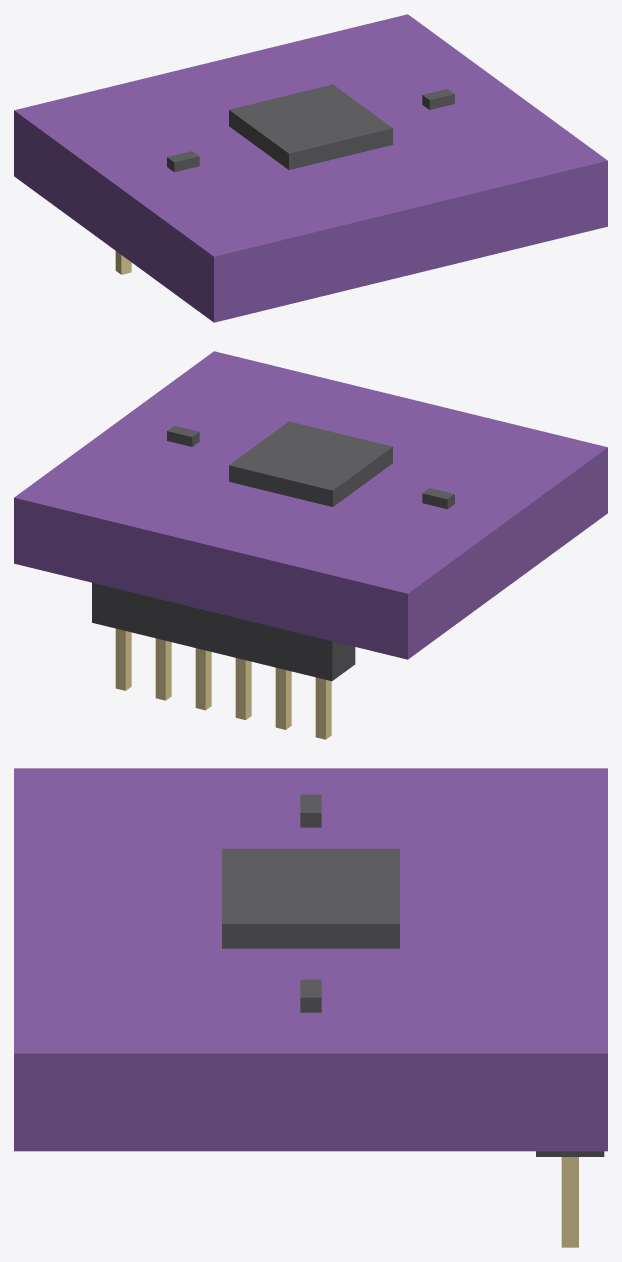
File: ina219.glb
3 renders of one model, top to bottom at view 1: azimuth 30°, elevation 25°; view 2: azimuth 150°, elevation 25°; view 3: azimuth 270°, elevation 25°, orthographic. The views are drawn at different scales.
Visible parts, largest first — view 1: ina219-pcb, ina219-ic; view 2: ina219-pcb, ina219-plastic, ina219-ic, ina219-pins; view 3: ina219-pcb, ina219-ic, ina219-pins.
Boxes of the visible parts, x1=… form: ina219-pcb: x1=14, y1=14, x2=607, y2=322; ina219-ic: x1=167, y1=84, x2=454, y2=172; ina219-pcb: x1=14, y1=351, x2=607, y2=659; ina219-plastic: x1=92, y1=582, x2=355, y2=681; ina219-ic: x1=167, y1=421, x2=454, y2=509; ina219-pins: x1=115, y1=628, x2=331, y2=739; ina219-pcb: x1=14, y1=768, x2=607, y2=1151; ina219-ic: x1=222, y1=794, x2=399, y2=1012; ina219-pins: x1=561, y1=1157, x2=578, y2=1247.
Bounding box in the file's own units: 0.025 × 0.0116 × 0.022.
